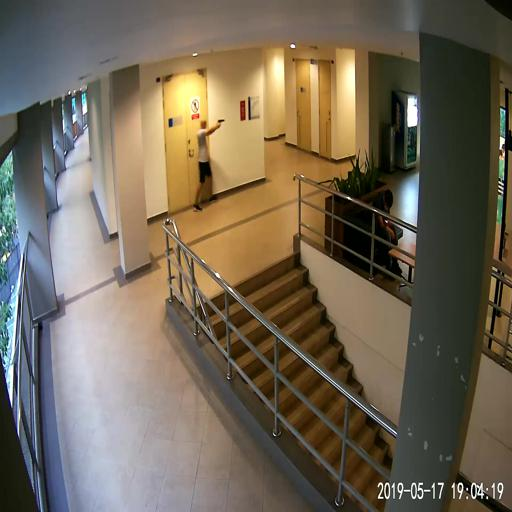pistol: (216, 116, 227, 131)
